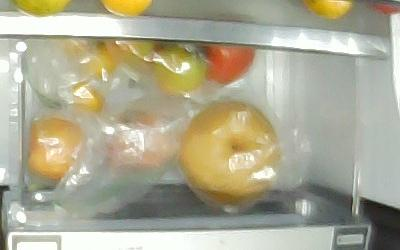peach_vinyl: (106, 108, 173, 168), (25, 116, 84, 180)
pear_vinyl: (176, 99, 279, 201)
tangerine_vinyl: (63, 38, 118, 78), (68, 80, 105, 114)
tomato_vinyl: (151, 44, 206, 95), (195, 46, 255, 84), (110, 38, 161, 70)
